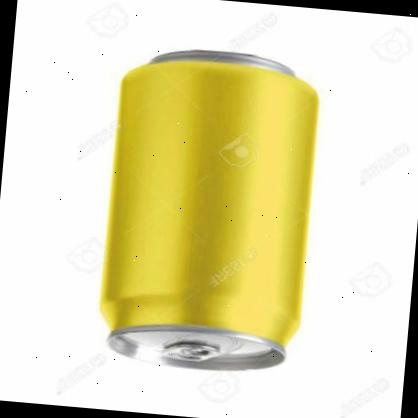can: (94, 42, 326, 377)
